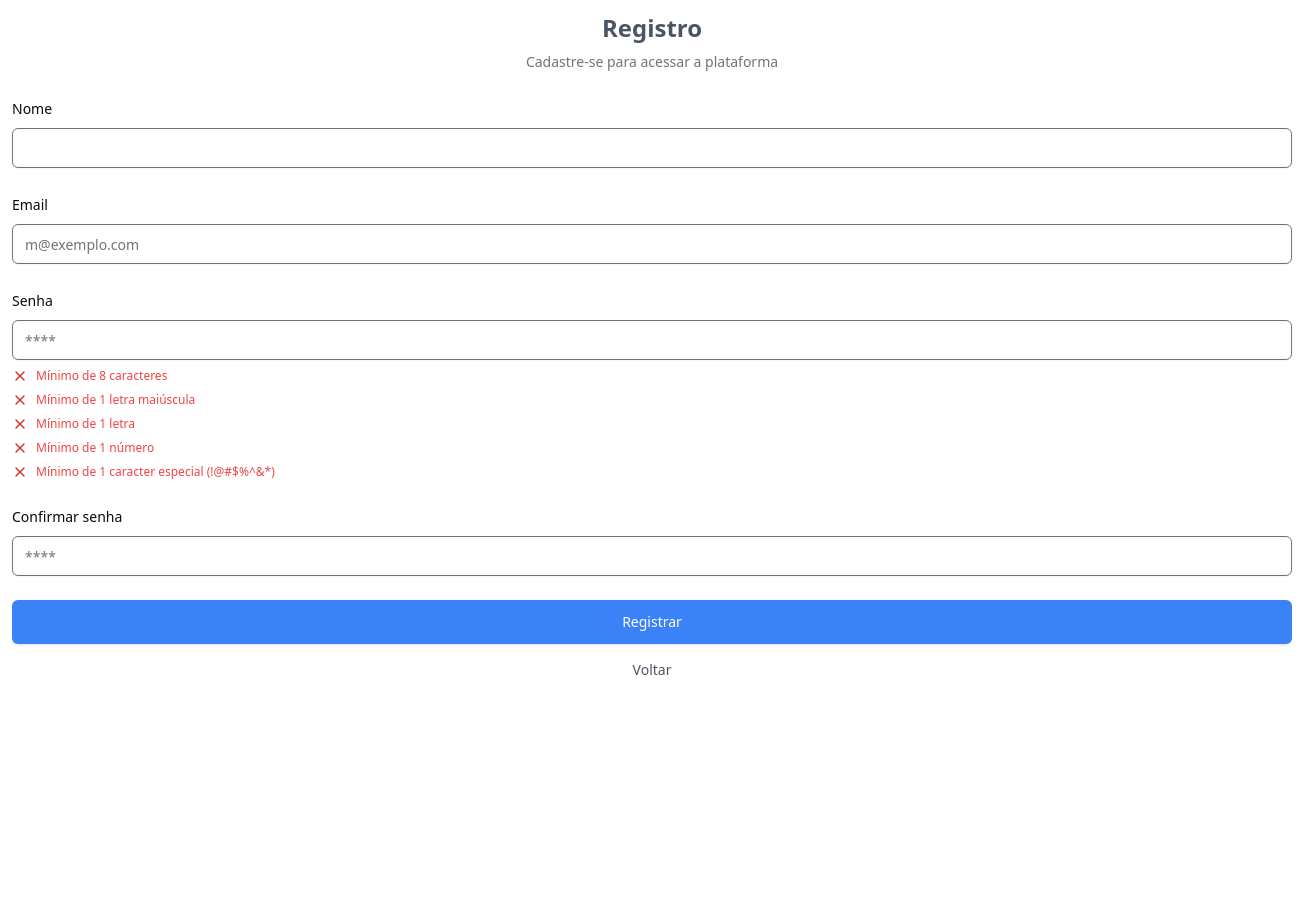
<RegisterForm /> › should show error messages if inputs are invalid
This screenshot has width=1304, height=912.
Click the button "Registrar": (652, 622) [12,600,1292,644]
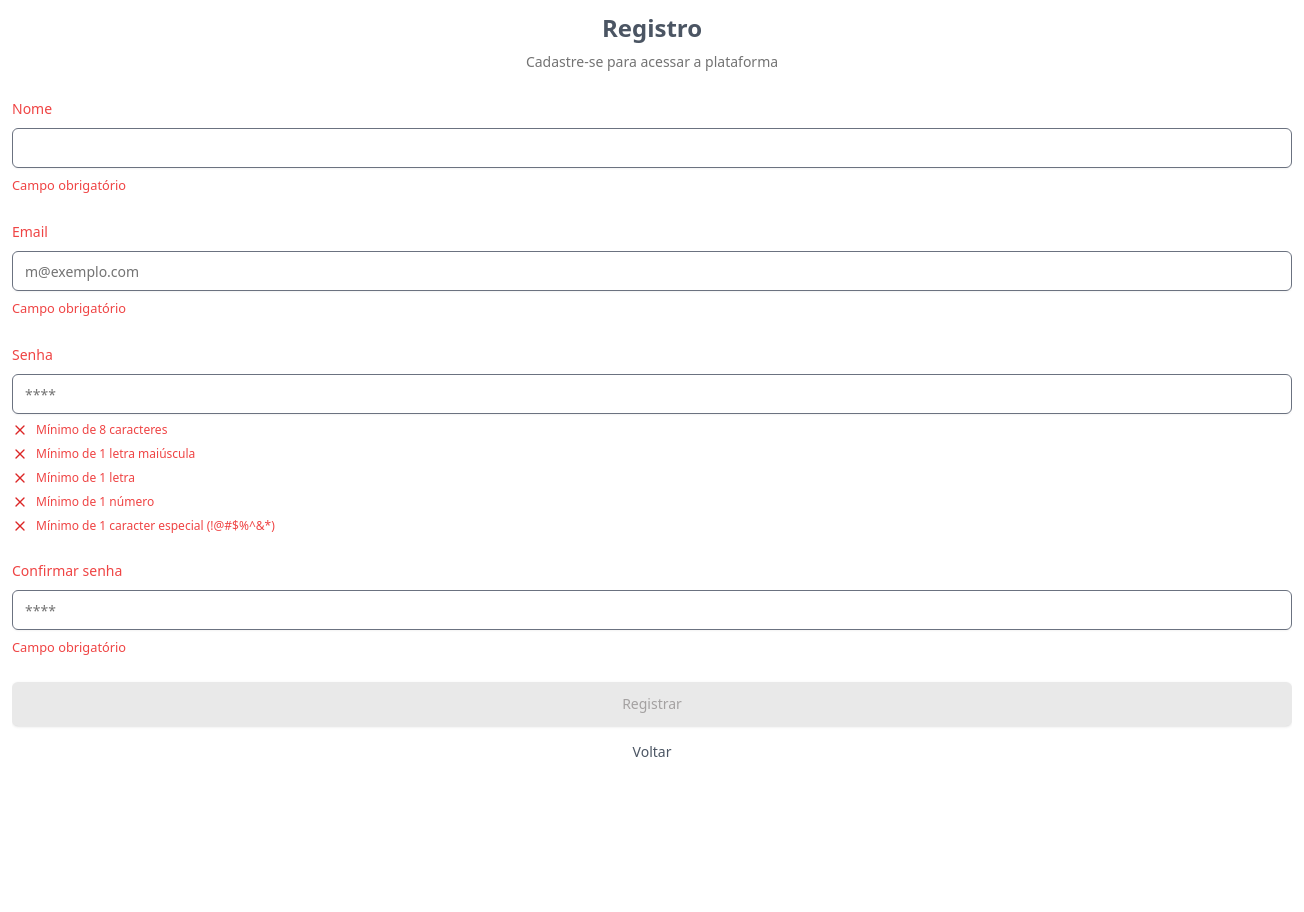
Expected: the text "Campo obrigatório" is shown 3 times, [12,176,126,194]; [12,299,126,317]; [12,638,126,656]
